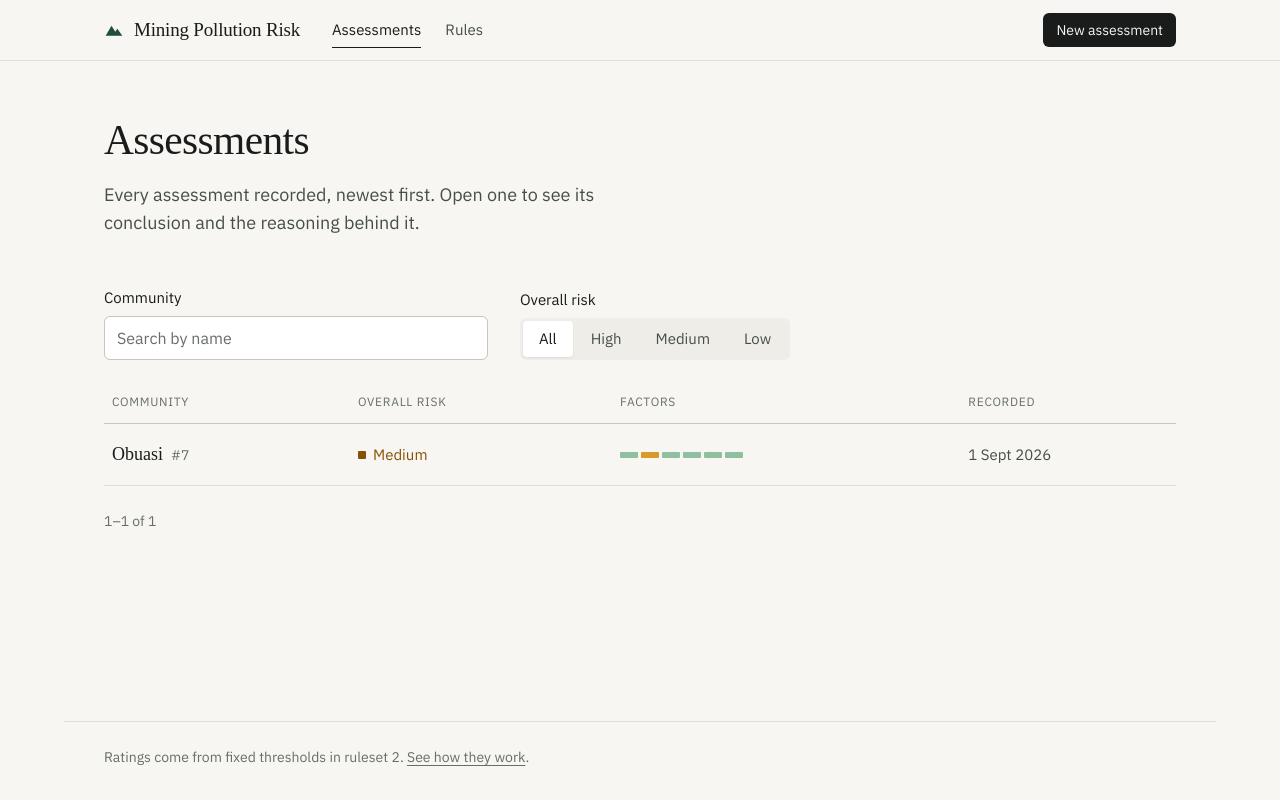
Test: Assessment history › sends search and risk filters to the API
The image size is (1280, 800).
Expected: the link "Obuasi" is shown, [112, 444, 163, 464]
In the search field labelled "Community": (296, 338) [104, 316, 488, 360], type "obu"
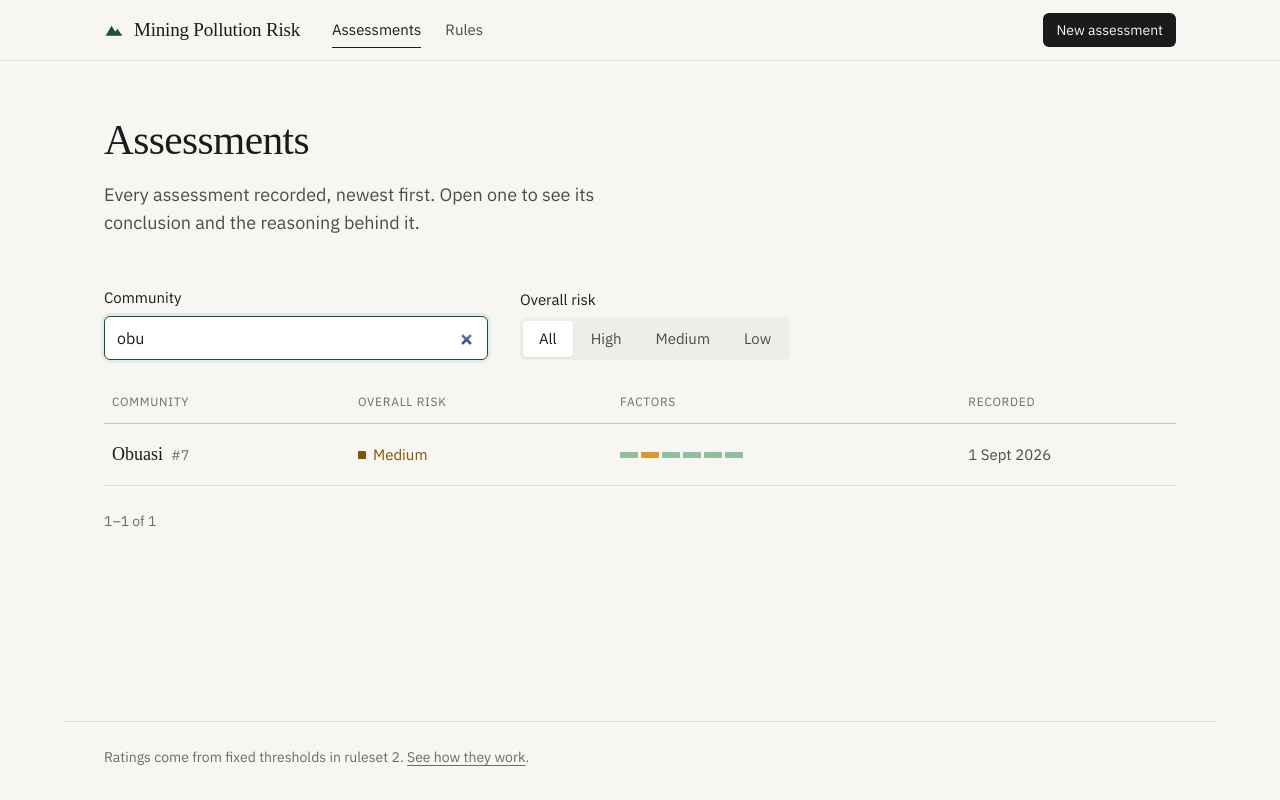
Click the radio button labelled "High": (606, 338) [591, 329, 622, 348]
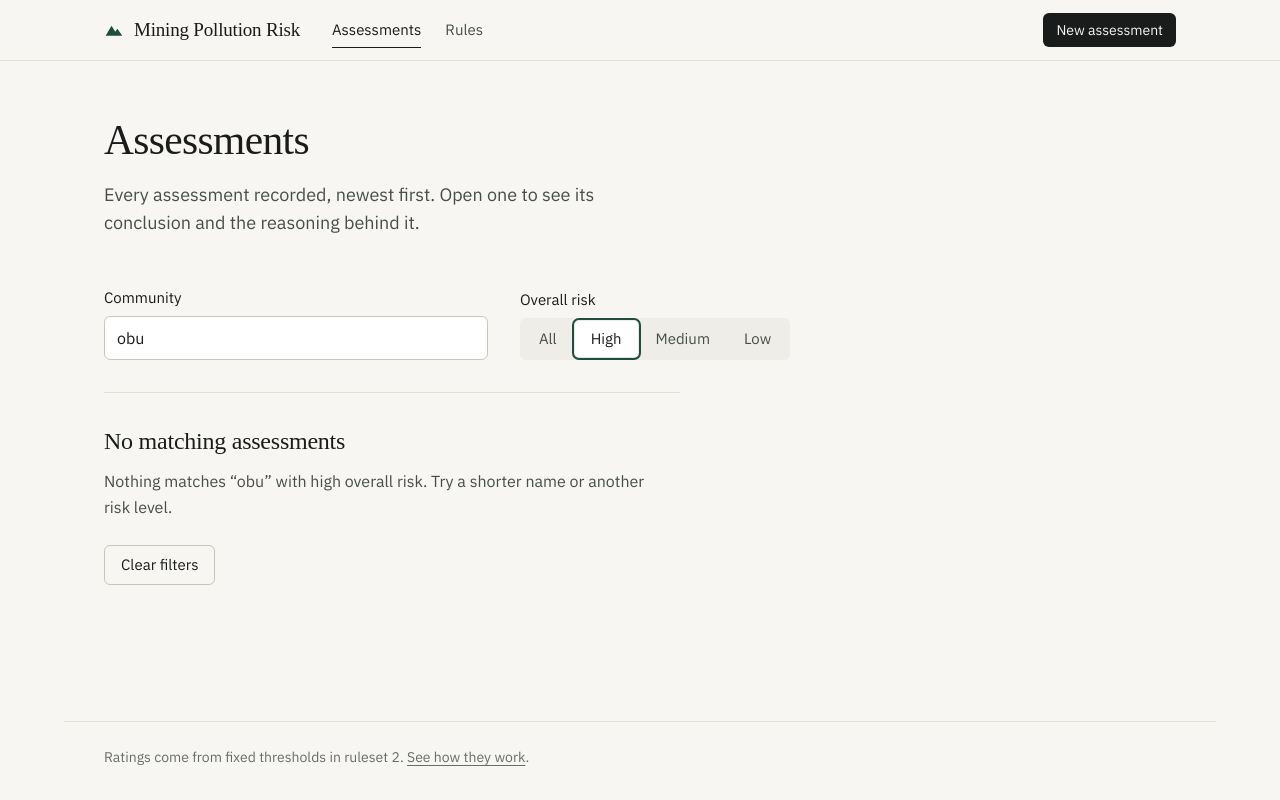
Expected: the text "High" is shown, [575, 321, 638, 357]
Result: the heading "No matching assessments" is shown at [104, 425, 345, 457]
